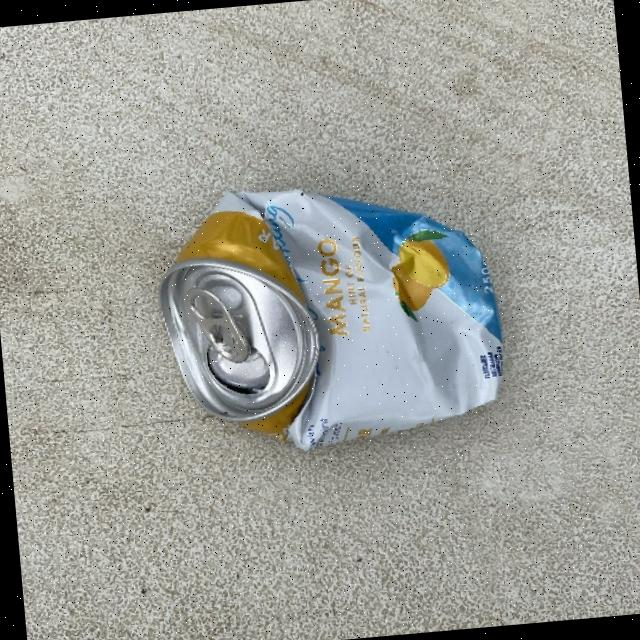metal: (148, 162, 528, 472)
